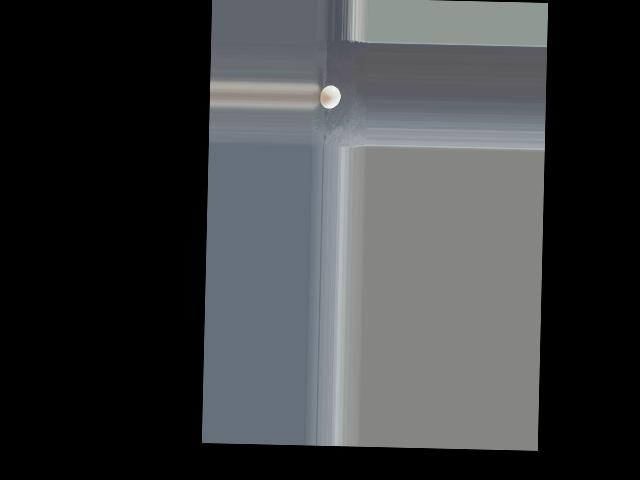egg: (319, 85, 341, 109)
